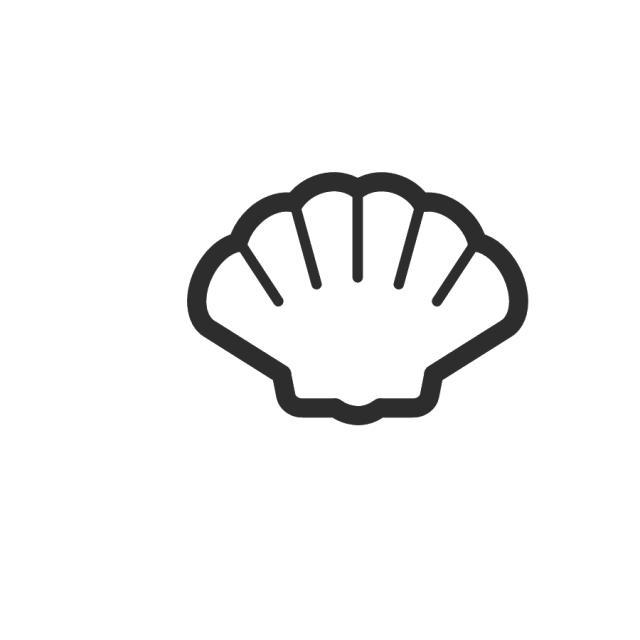shell: (180, 165, 535, 433)
